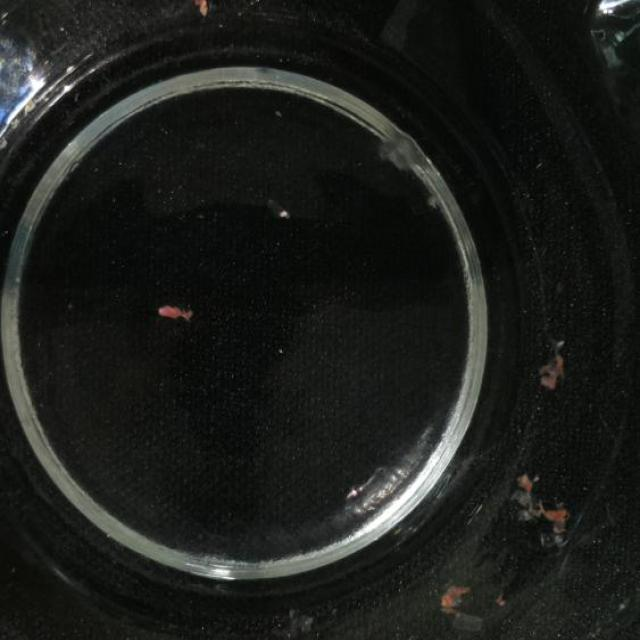fiber: (512, 462, 576, 542), (378, 118, 436, 194), (432, 576, 493, 636), (529, 338, 575, 397), (133, 0, 223, 30), (156, 298, 198, 337)
